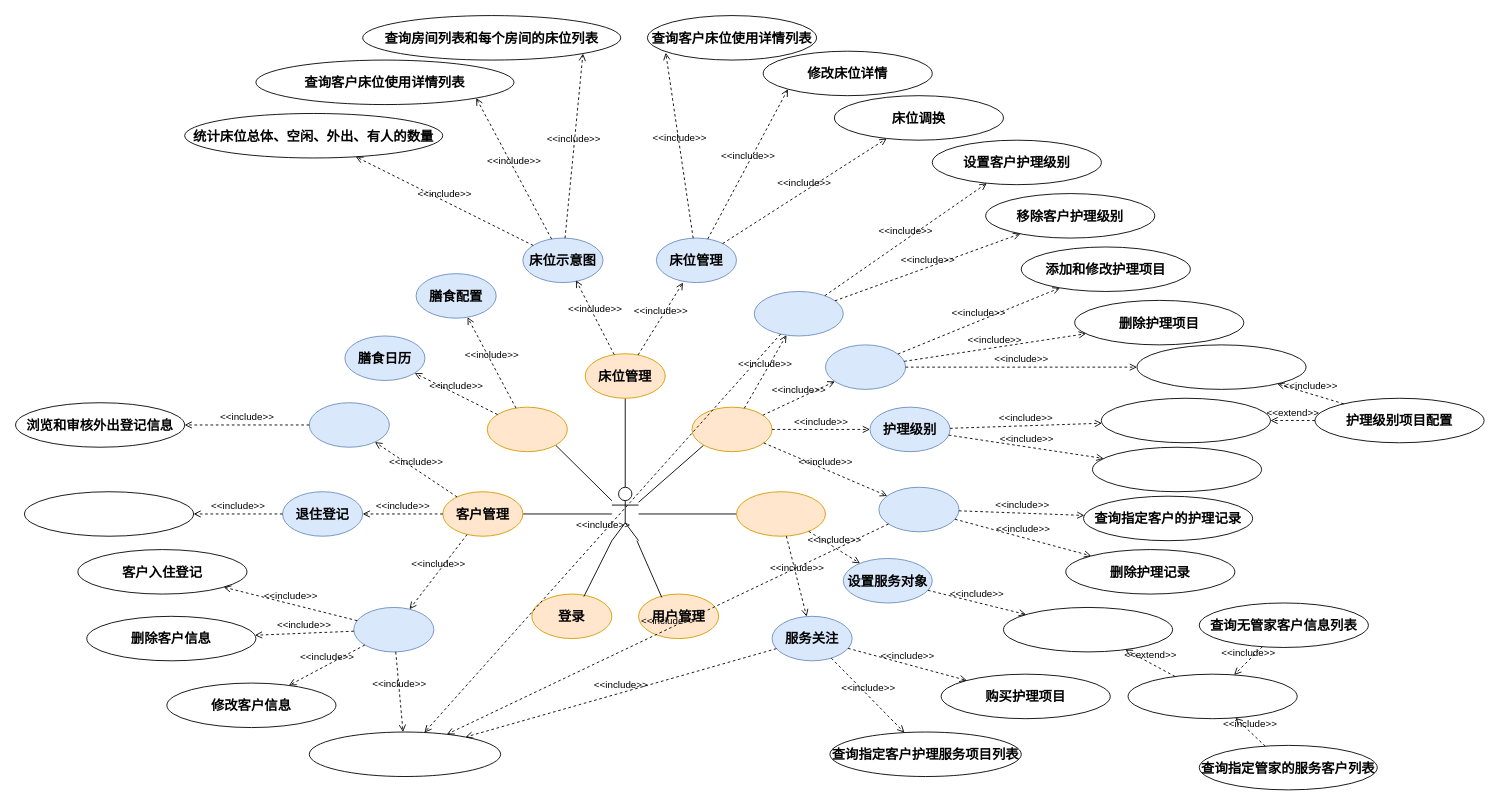
This 1500x805 diagram has some shape labels left out. Each missing label, with the centre of its shape:
健康管家: point 780,513
入住登记: point 393,629
外出登记: point 348,424
客户护理设置: point 798,313
护理管理: point 731,429
护理记录: point 918,509
护理项目: point 865,366
查询健康管家列表: point 1088,629
查询客户信息数据列表: point 404,754
查询护理项目信息列表: point 1221,366
查询护级别目信息列表: point 1185,420
浏览和审核退住登记信息: point 109,513
添加和修改护理级别: point 1177,469
管理员: point 625,513
膳食管理: point 526,429
设置客户服务对象: point 1212,696
